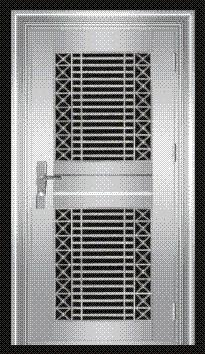door: (25, 24, 185, 342)
